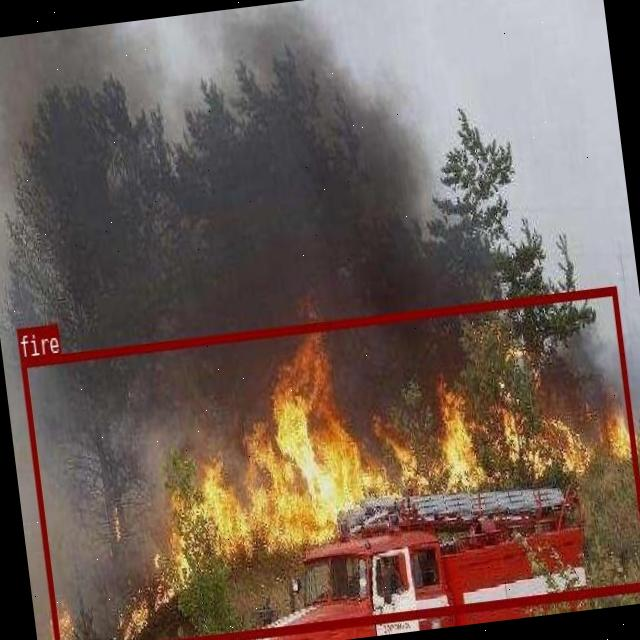fire: (19, 284, 640, 640)
